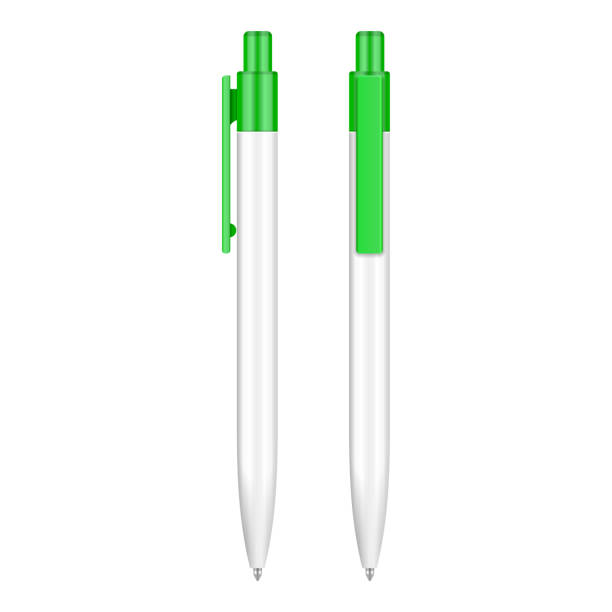pen: (204, 20, 325, 587), (341, 12, 411, 589)
